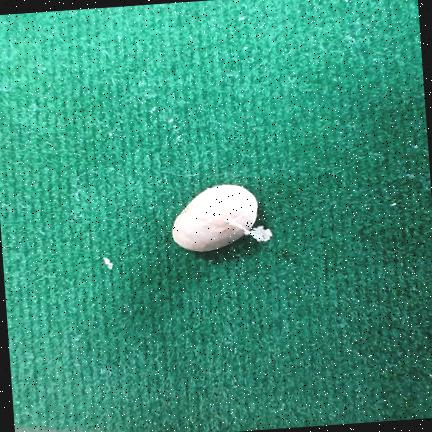shell: (172, 184, 272, 251)
